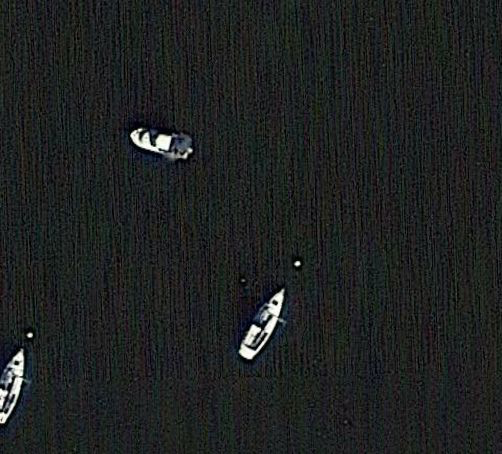boat: (236, 282, 291, 364), (123, 122, 197, 164), (1, 345, 30, 427)
